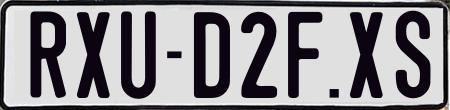2: (241, 9, 278, 101)
D: (192, 10, 233, 101)
F: (288, 9, 328, 99)
R: (29, 10, 69, 97)
S: (396, 10, 437, 99)
U: (121, 10, 157, 103)
X: (75, 9, 111, 99), (347, 11, 382, 101)
